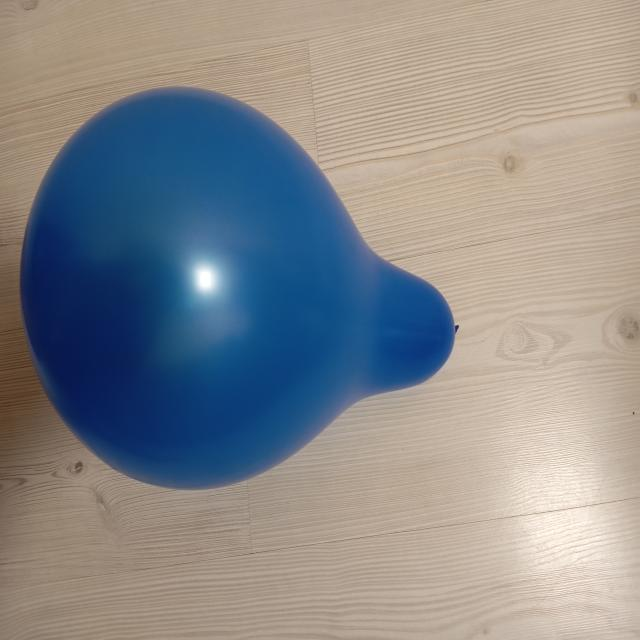balloon: (628, 92, 637, 105)
